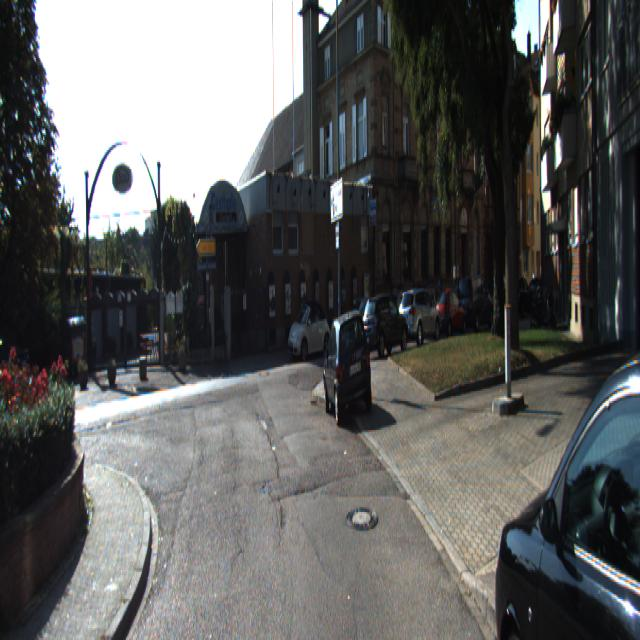Car: (487, 331, 639, 638), (322, 307, 372, 418), (359, 288, 408, 358), (287, 298, 331, 362), (397, 284, 440, 346), (457, 272, 494, 332), (436, 287, 467, 338)
